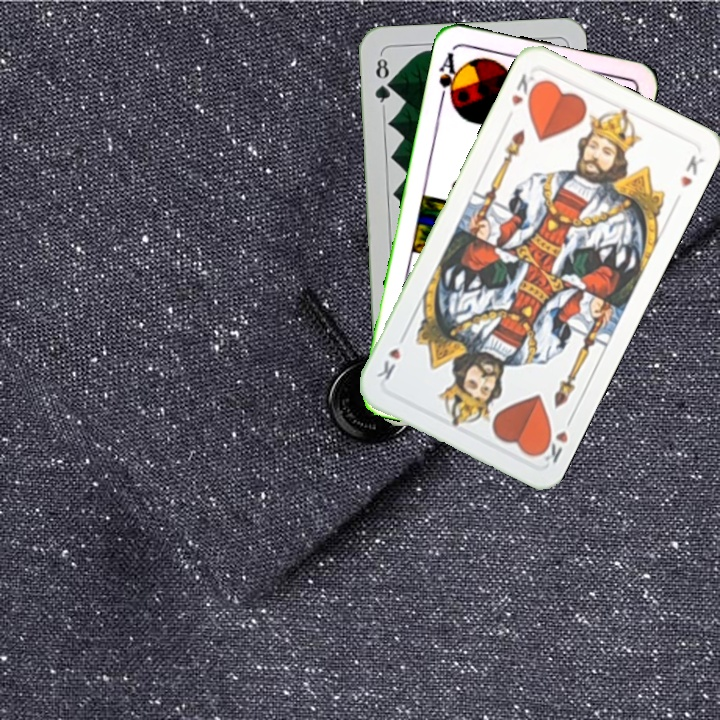G8: (370, 51, 394, 110)
HK: (533, 411, 576, 467), (507, 67, 542, 109)
SA: (435, 48, 464, 108)
